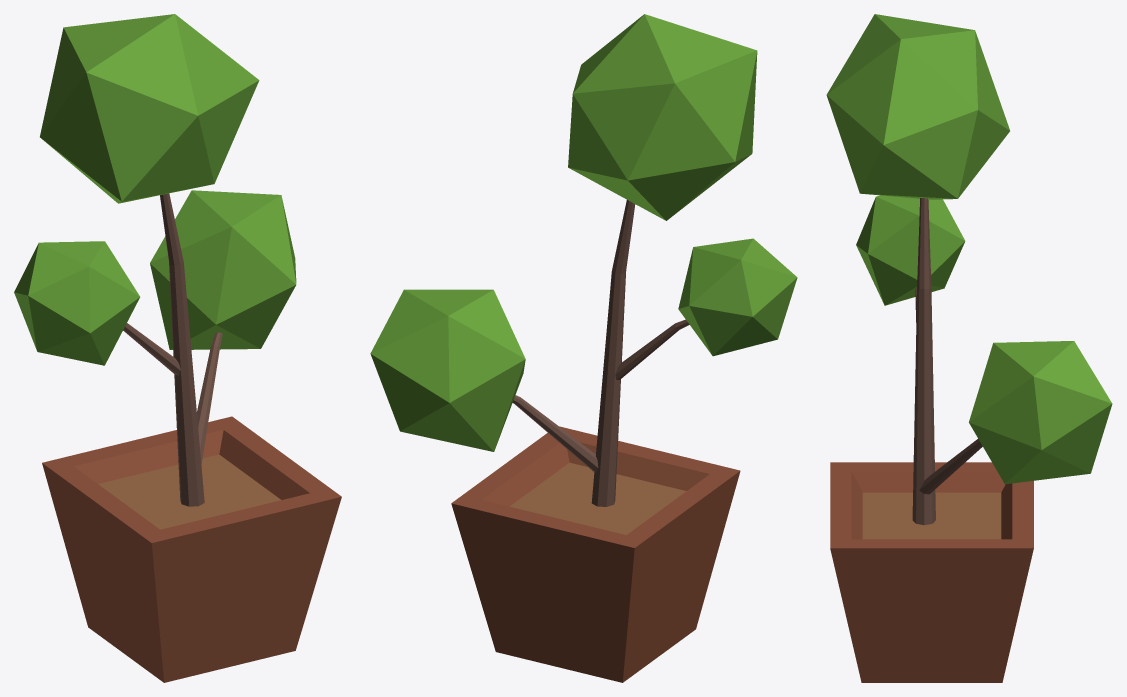
Rendered from PottedPlants_01.fbx.
The picture shows the model from 3 angles, left to right: view 1: azimuth 30°, elevation 25°; view 2: azimuth 150°, elevation 25°; view 3: azimuth 270°, elevation 25°; orthographic projection. The views are drawn at different scales.
Parts seen in each view (by area): view 1: PottedPlants_01; view 2: PottedPlants_01; view 3: PottedPlants_01.
Part boxes in pixels (box(x1,y1,x2,y2)): PottedPlants_01: box(14, 14, 341, 682); PottedPlants_01: box(370, 14, 797, 682); PottedPlants_01: box(826, 14, 1112, 682).
Bounding box in the file's own units: 221 × 391 × 169.
